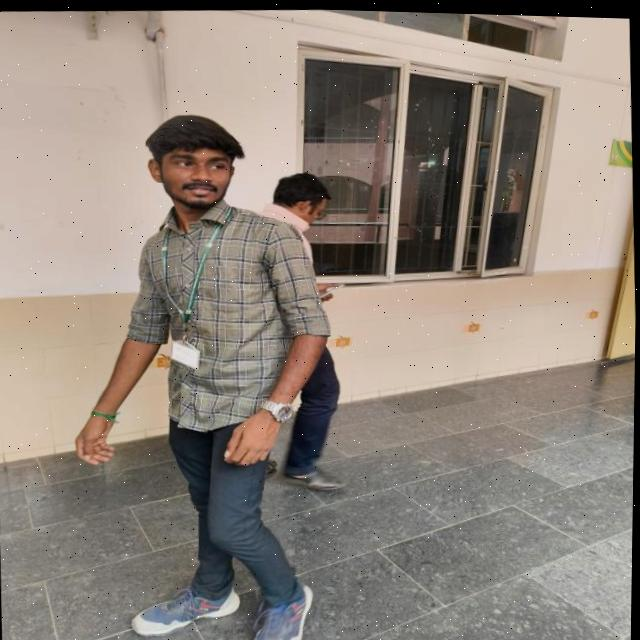id_card: (149, 211, 226, 369)
